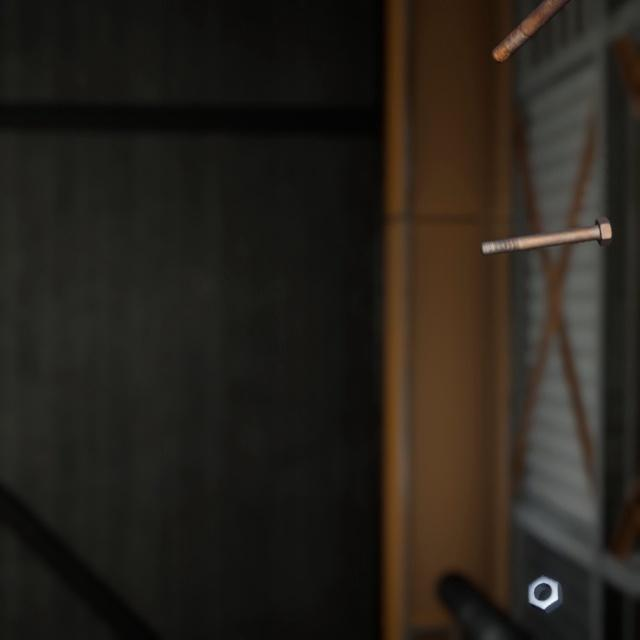bolt: (475, 196, 616, 244), (487, 0, 567, 60)
nut: (523, 548, 566, 594)
